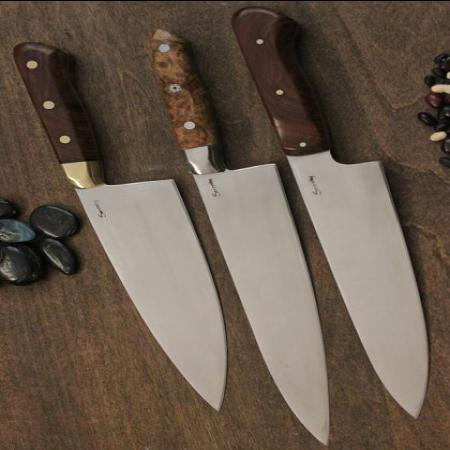long weapon: (188, 181, 338, 448), (287, 172, 433, 420), (68, 195, 232, 413)
